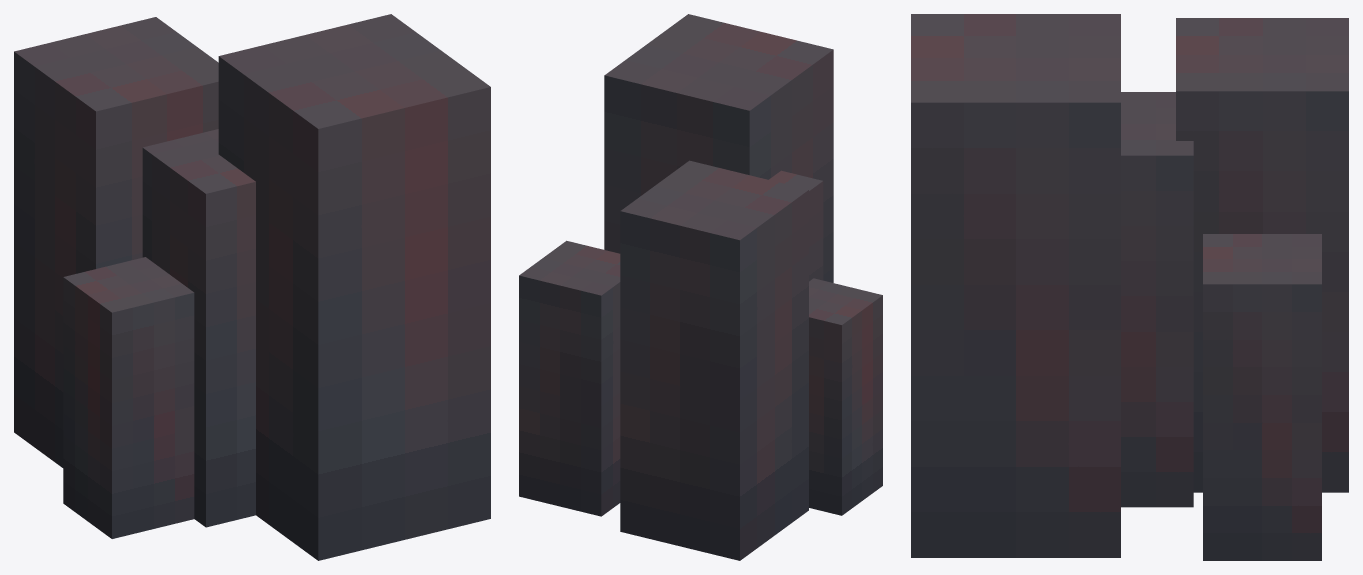
Rendered from hematite_crystal_five.obj.
3 renders of one model, left to right at view 1: azimuth 30°, elevation 25°; view 2: azimuth 150°, elevation 25°; view 3: azimuth 270°, elevation 25°, orthographic. The views are drawn at different scales.
Parts seen in each view (by area): view 1: Crystal4_Cube.000, Crystal1_Cube.003, Crystal2_Cube.002, Crystal3_Cube.001; view 2: Crystal1_Cube.003, Crystal4_Cube.000, Crystal5_Cube.008, Crystal2_Cube.002, Crystal3_Cube.001; view 3: Crystal4_Cube.000, Crystal1_Cube.003, Crystal5_Cube.008, Crystal3_Cube.001.
Part boxes in pixels (left/top/right/bottom): Crystal4_Cube.000: left=218, top=14, right=490, bottom=560; Crystal1_Cube.003: left=14, top=17, right=218, bottom=467; Crystal2_Cube.002: left=63, top=257, right=194, bottom=538; Crystal3_Cube.001: left=142, top=129, right=255, bottom=527; Crystal1_Cube.003: left=620, top=160, right=808, bottom=560; Crystal4_Cube.000: left=604, top=14, right=833, bottom=282; Crystal5_Cube.008: left=519, top=240, right=620, bottom=516; Crystal2_Cube.002: left=809, top=278, right=882, bottom=515; Crystal3_Cube.001: left=769, top=170, right=823, bottom=281; Crystal4_Cube.000: left=911, top=14, right=1120, bottom=557; Crystal1_Cube.003: left=1176, top=18, right=1348, bottom=492; Crystal5_Cube.008: left=1203, top=234, right=1321, bottom=560; Crystal3_Cube.001: left=1121, top=92, right=1193, bottom=507.
Size of the model in its own units: 0.4881 by 0.6473 by 0.5645.
